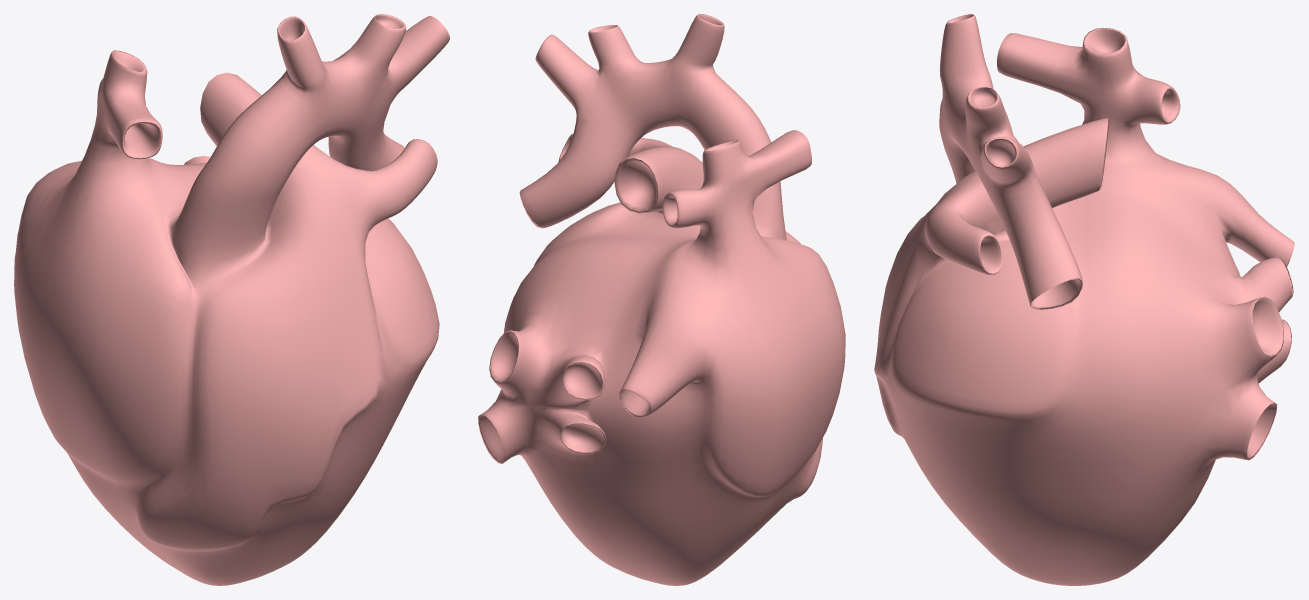
The model's file is Heart.fbx.
3 renders of one model, left to right at view 1: azimuth 30°, elevation 25°; view 2: azimuth 150°, elevation 25°; view 3: azimuth 270°, elevation 25°, orthographic. The views are drawn at different scales.
Parts seen in each view (by area): view 1: pCube1; view 2: pCube1; view 3: pCube1.
Part boxes in pixels (left/top/right/bottom): pCube1: left=14, top=14, right=449, bottom=585; pCube1: left=478, top=14, right=845, bottom=585; pCube1: left=874, top=14, right=1294, bottom=585.
Size of the model in its own units: 11.35 by 18.19 by 12.08.
